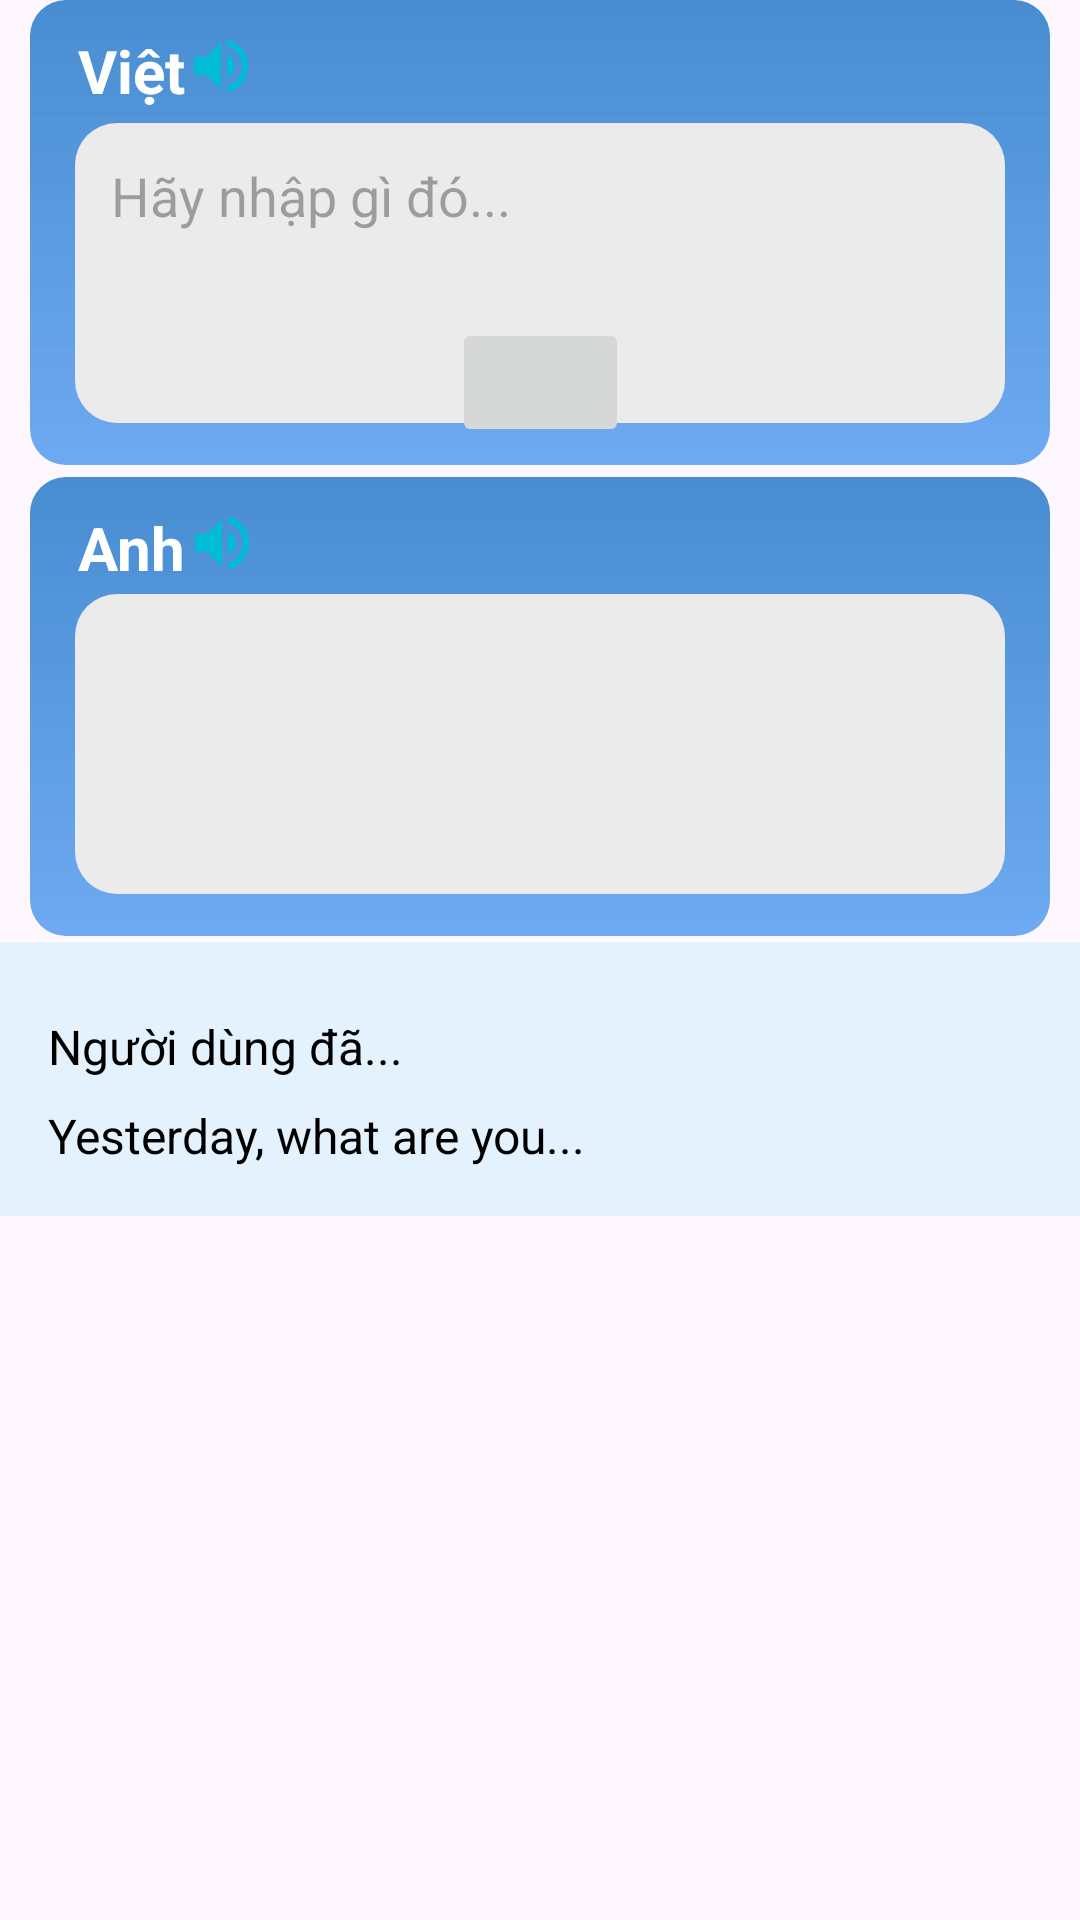

Where to tap for icons on this 1080*1920 app screen, as [x,y]:
speaker: [221,66], [222,543]
